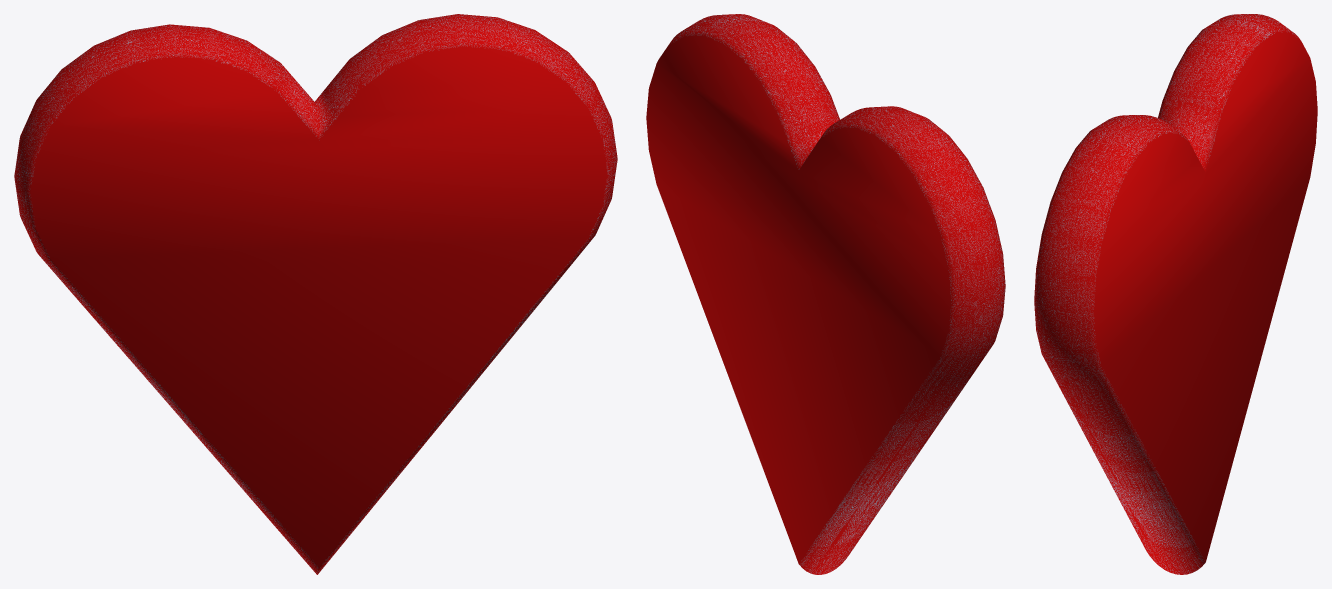
3 views of the same model, side by side, from view 1: azimuth 30°, elevation 25°; view 2: azimuth 150°, elevation 25°; view 3: azimuth 270°, elevation 25° (orthographic). The views are drawn at different scales.
Visible parts, largest first — view 1: SketchUp (×2); view 2: SketchUp (×2); view 3: SketchUp (×2).
Boxes of the visible parts, bbox=[...] form: SketchUp (×2): bbox=[14, 14, 617, 574]; SketchUp (×2): bbox=[646, 14, 1005, 574]; SketchUp (×2): bbox=[1034, 14, 1317, 574].
Bounding box in the file's own units: 152 × 84.63 × 164.
